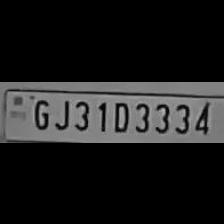1: (92, 97, 110, 133)
3: (71, 96, 91, 132), (152, 99, 170, 134), (172, 99, 190, 134), (132, 98, 150, 132)
4: (192, 98, 212, 134)
D: (108, 97, 130, 133)
G: (30, 94, 50, 130)
J: (51, 94, 70, 130)
